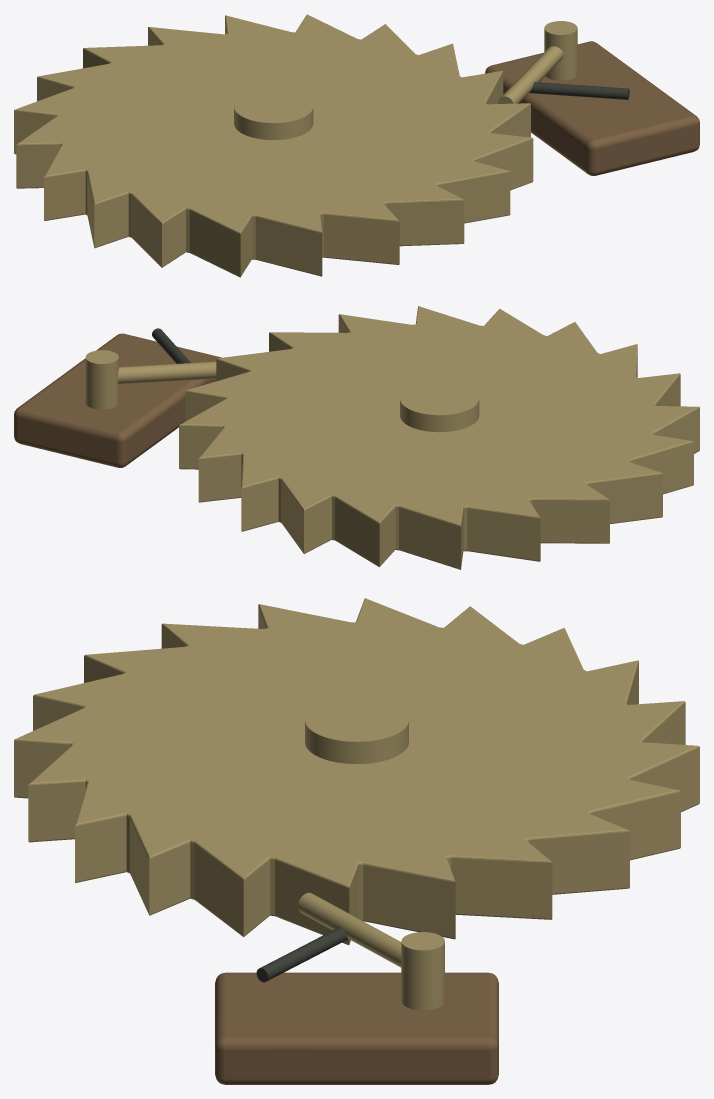
The model's file is water-clock-garden-and-hydraulic-puzzles-drum-indexing-2c12c9e7__31929.glb.
The picture shows the model from 3 angles, top to bottom: view 1: azimuth 30°, elevation 25°; view 2: azimuth 150°, elevation 25°; view 3: azimuth 270°, elevation 25°; orthographic projection. The views are drawn at different scales.
Visible parts, largest first — view 1: drum-indexing-ratchet; view 2: drum-indexing-ratchet; view 3: drum-indexing-ratchet.
Part boxes in pixels (x1=…): drum-indexing-ratchet: x1=14, y1=14, x2=699, y2=277; drum-indexing-ratchet: x1=14, y1=306, x2=699, y2=569; drum-indexing-ratchet: x1=14, y1=598, x2=699, y2=1084.
Bounding box in the file's own units: 0.9626 × 0.15 × 0.7251.
